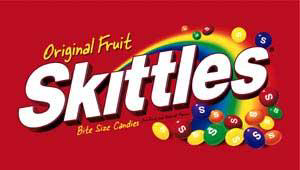grozi_38: (0, 0, 299, 170)
